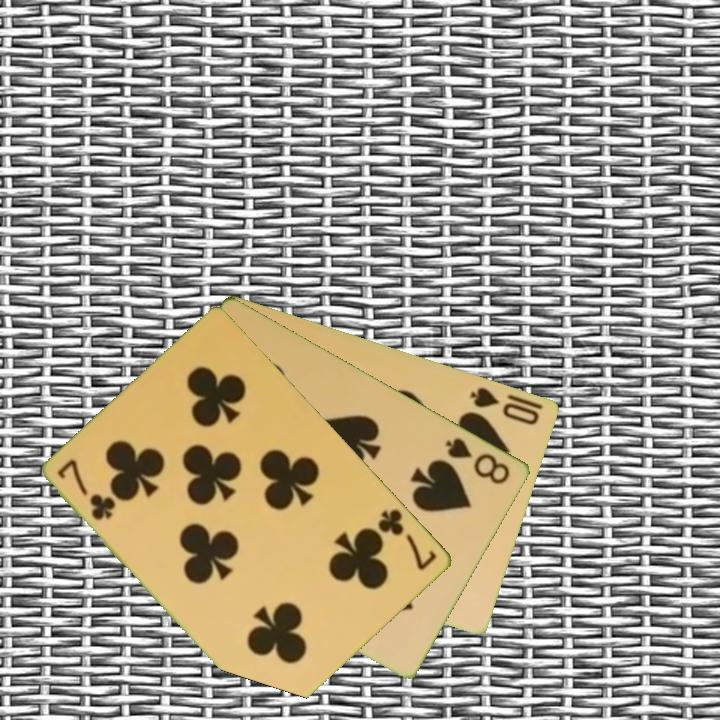10s: (467, 383, 543, 428)
7c: (374, 505, 441, 574), (54, 456, 119, 524)
8s: (442, 433, 514, 488)
